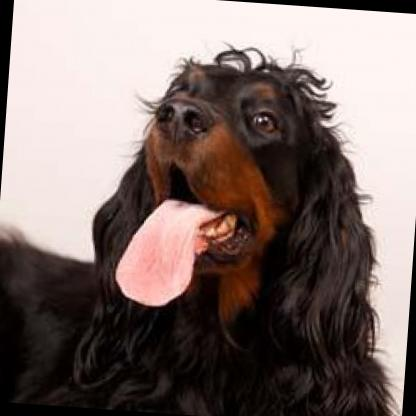Gordon_setter: (0, 32, 416, 416)
